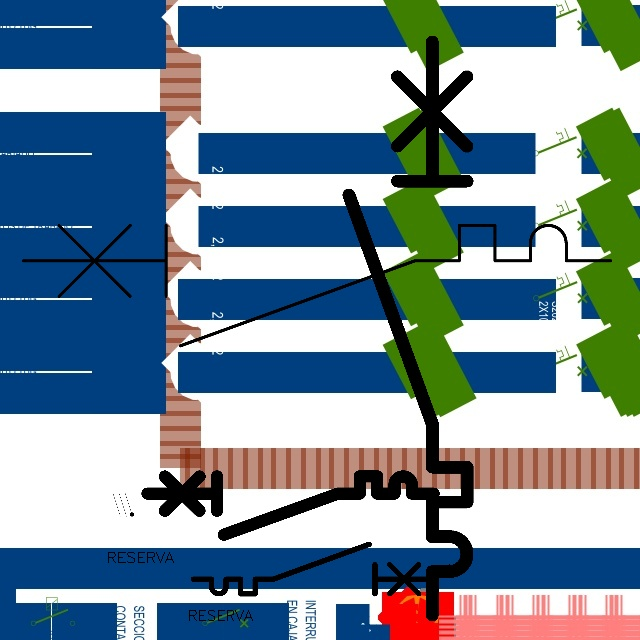interruptor_termomagnetico: (8, 210, 626, 361), (334, 27, 482, 630), (140, 469, 441, 542), (187, 538, 440, 600)
